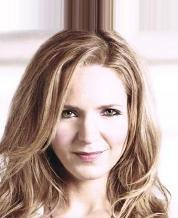face: (61, 104, 122, 162)
